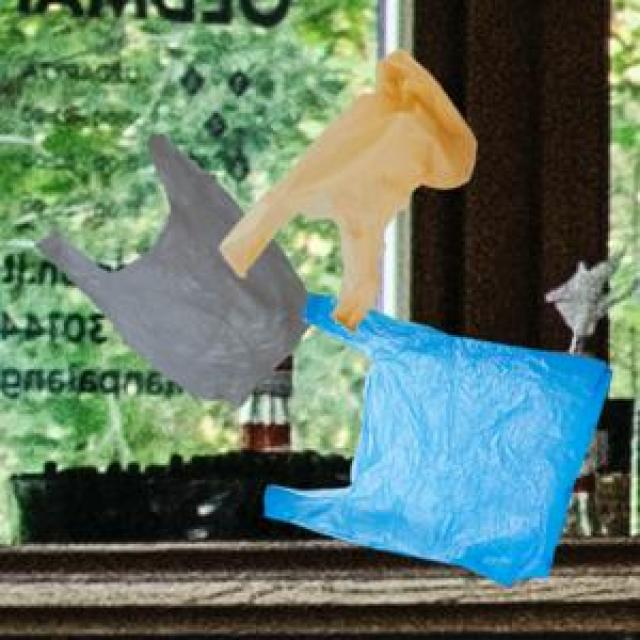plastic: (10, 40, 625, 608)
